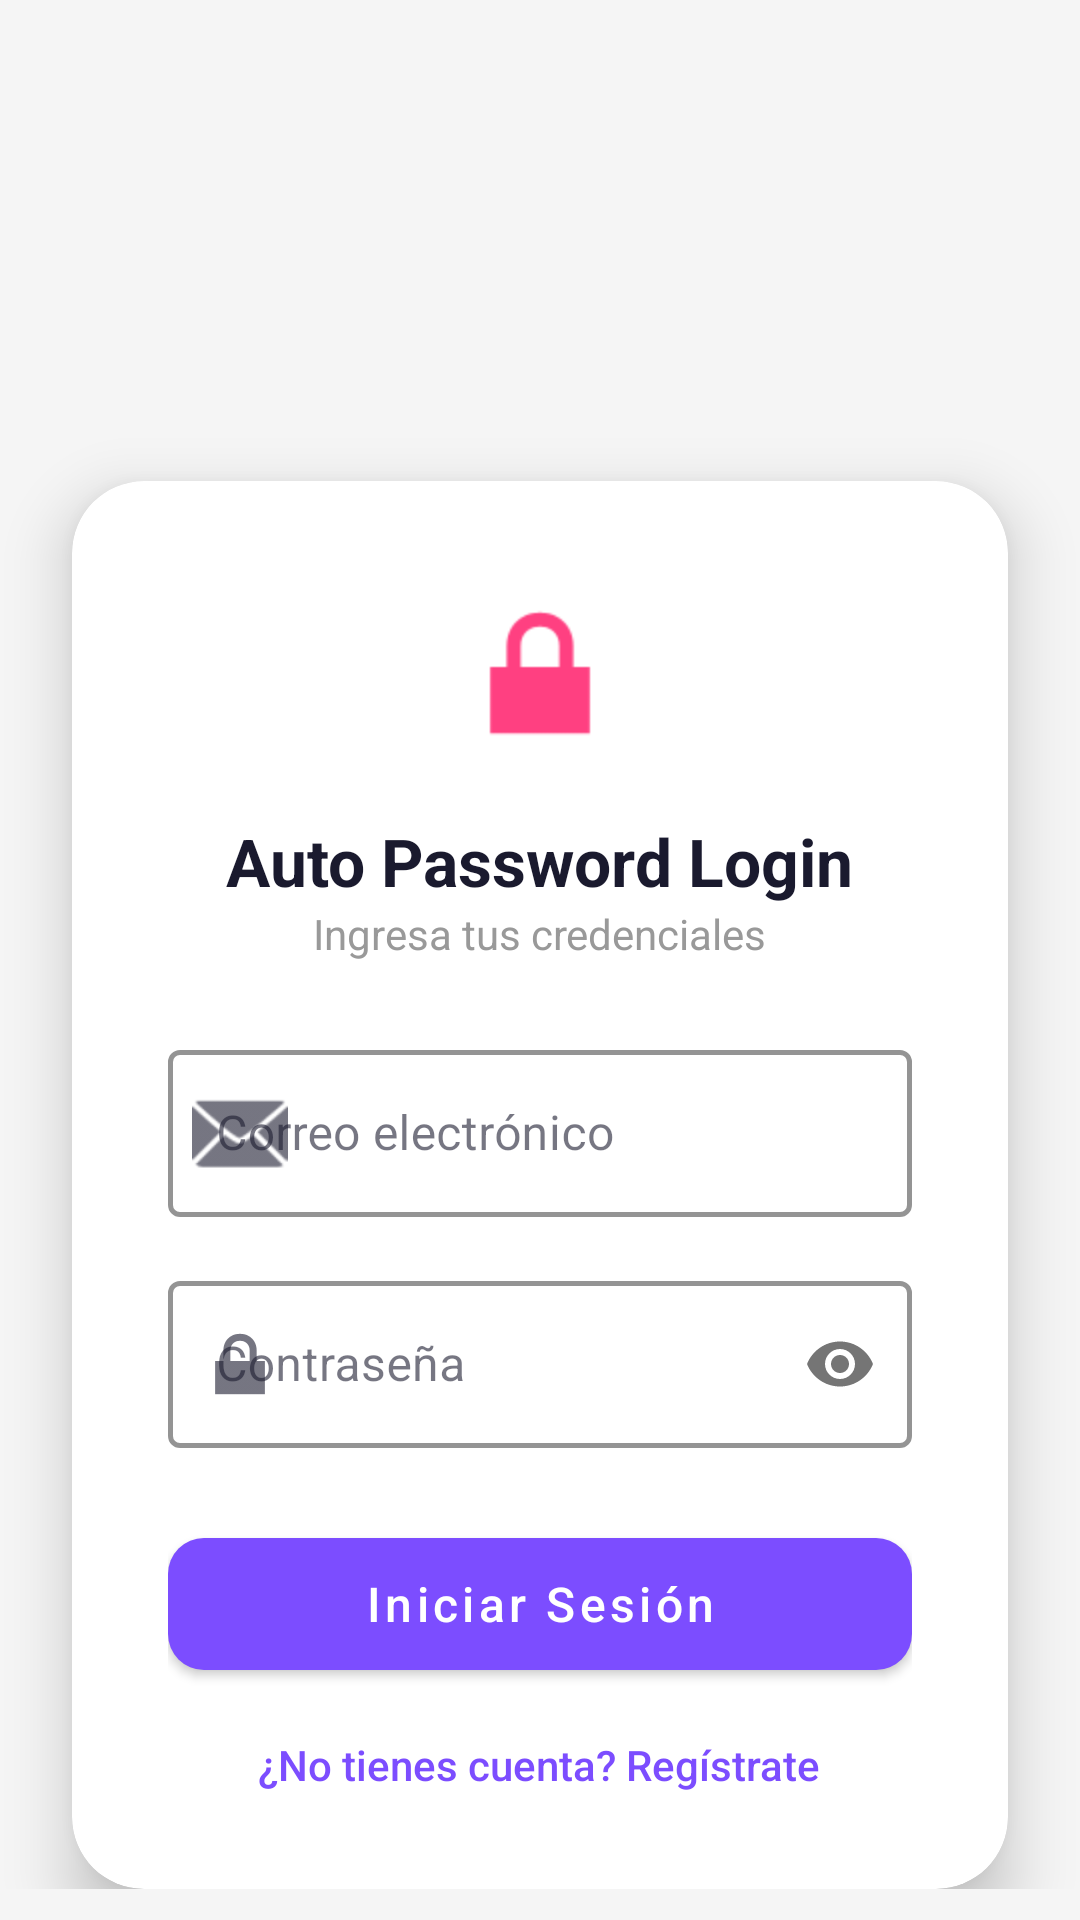

Icon click points for this 1080 x 1920 phone screenshot, format point (x, y):
Lock: point (540, 673)
